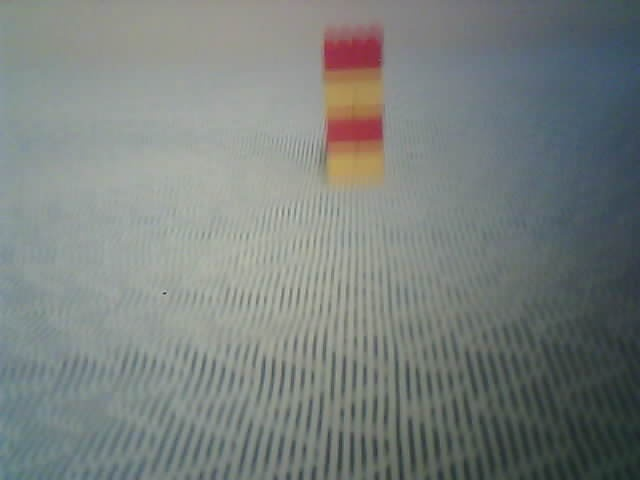lego: (321, 25, 387, 190)
